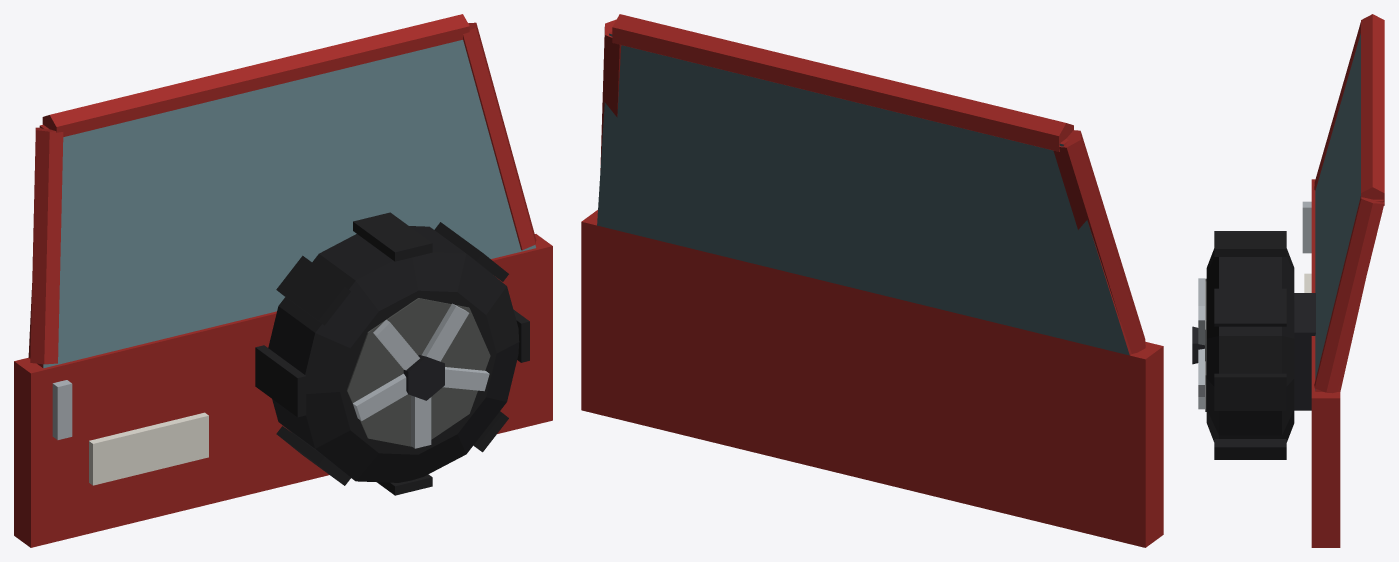
The model's file is car_tailgate_red.glb.
3 renders of one model, left to right at view 1: azimuth 30°, elevation 25°; view 2: azimuth 150°, elevation 25°; view 3: azimuth 270°, elevation 25°, orthographic. The views are drawn at different scales.
Parts seen in each view (by area): view 1: tailgate; view 2: tailgate; view 3: tailgate.
Part boxes in pixels (x1,y1,x2,y2): tailgate: [14, 14, 552, 547]; tailgate: [581, 14, 1163, 547]; tailgate: [1192, 14, 1384, 547].
Bounding box in the file's own units: 1.44 × 1.04 × 0.5346.
Materials: 2 (2 with a texture image).
